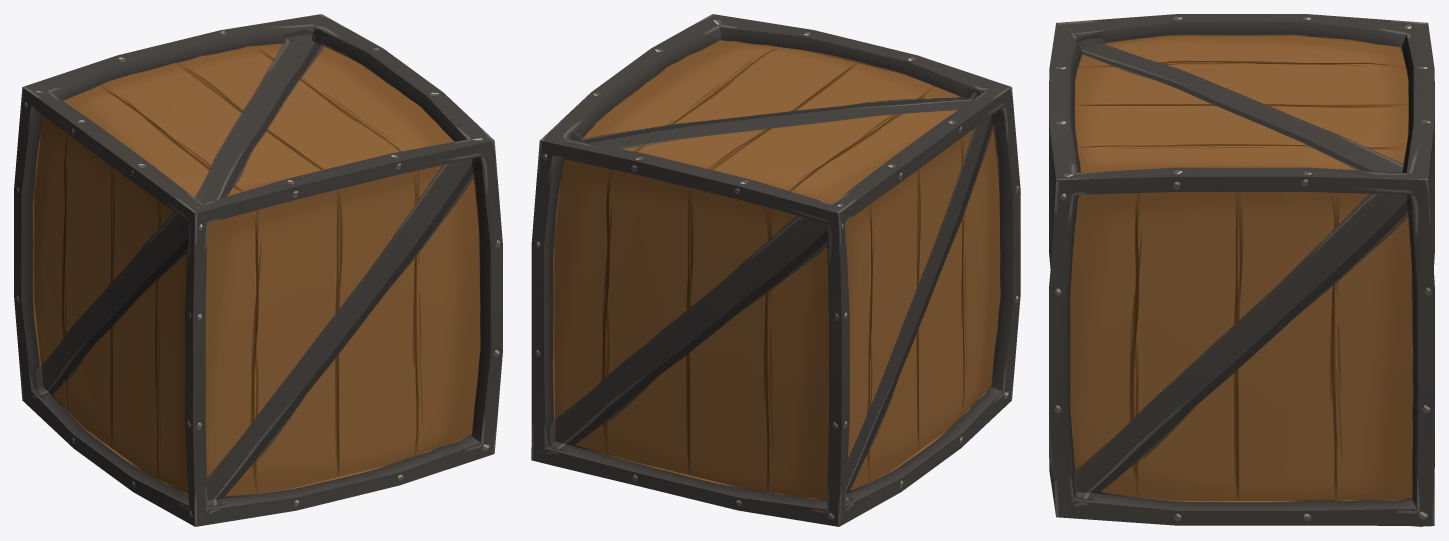
File: Crate_Large_MESH_01.fbx
The picture shows the model from 3 angles, left to right: view 1: azimuth 30°, elevation 25°; view 2: azimuth 150°, elevation 25°; view 3: azimuth 270°, elevation 25°; orthographic projection. The views are drawn at different scales.
Parts seen in each view (by area): view 1: Crate; view 2: Crate; view 3: Crate.
Part boxes in pixels (x1=…): Crate: x1=14, y1=14, x2=502, y2=526; Crate: x1=531, y1=14, x2=1020, y2=526; Crate: x1=1049, y1=14, x2=1434, y2=526.
Size of the model in its own units: 80.87 by 82.42 by 80.86.
